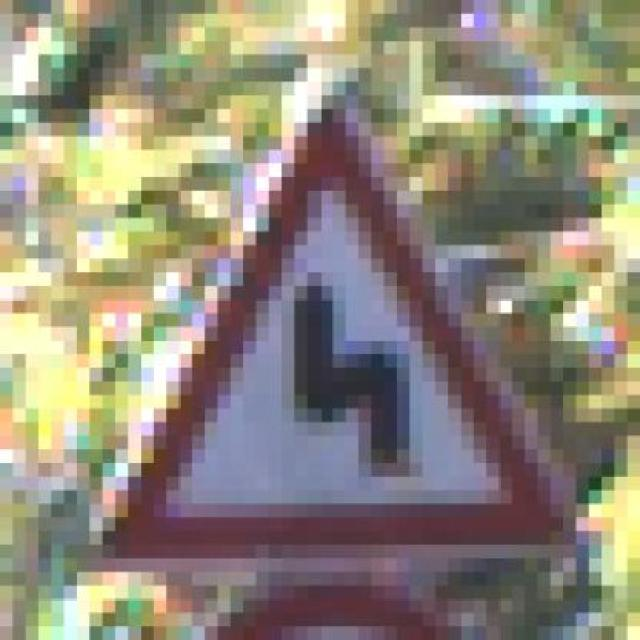Left Zig Zag Traffic: (76, 81, 576, 558)
